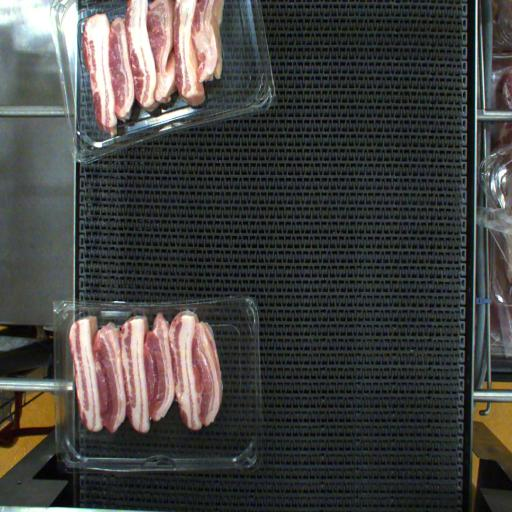packaging-error: (158, 290, 208, 322)
